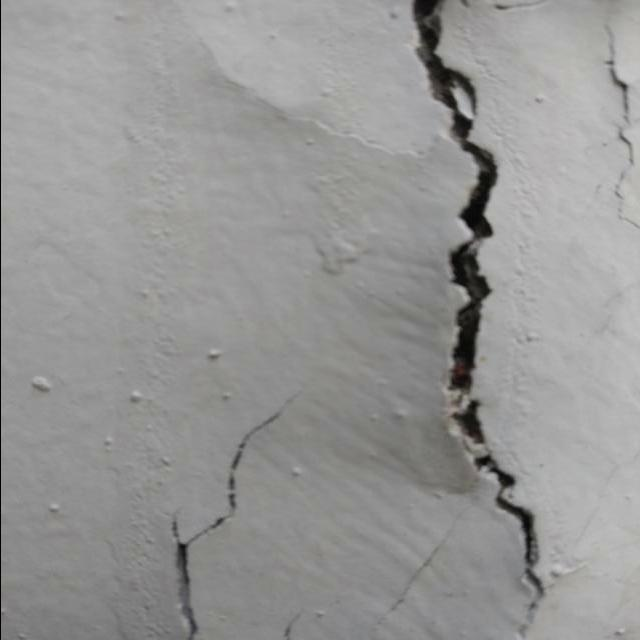SurfaceCrack: (351, 0, 576, 640), (149, 376, 327, 639)
